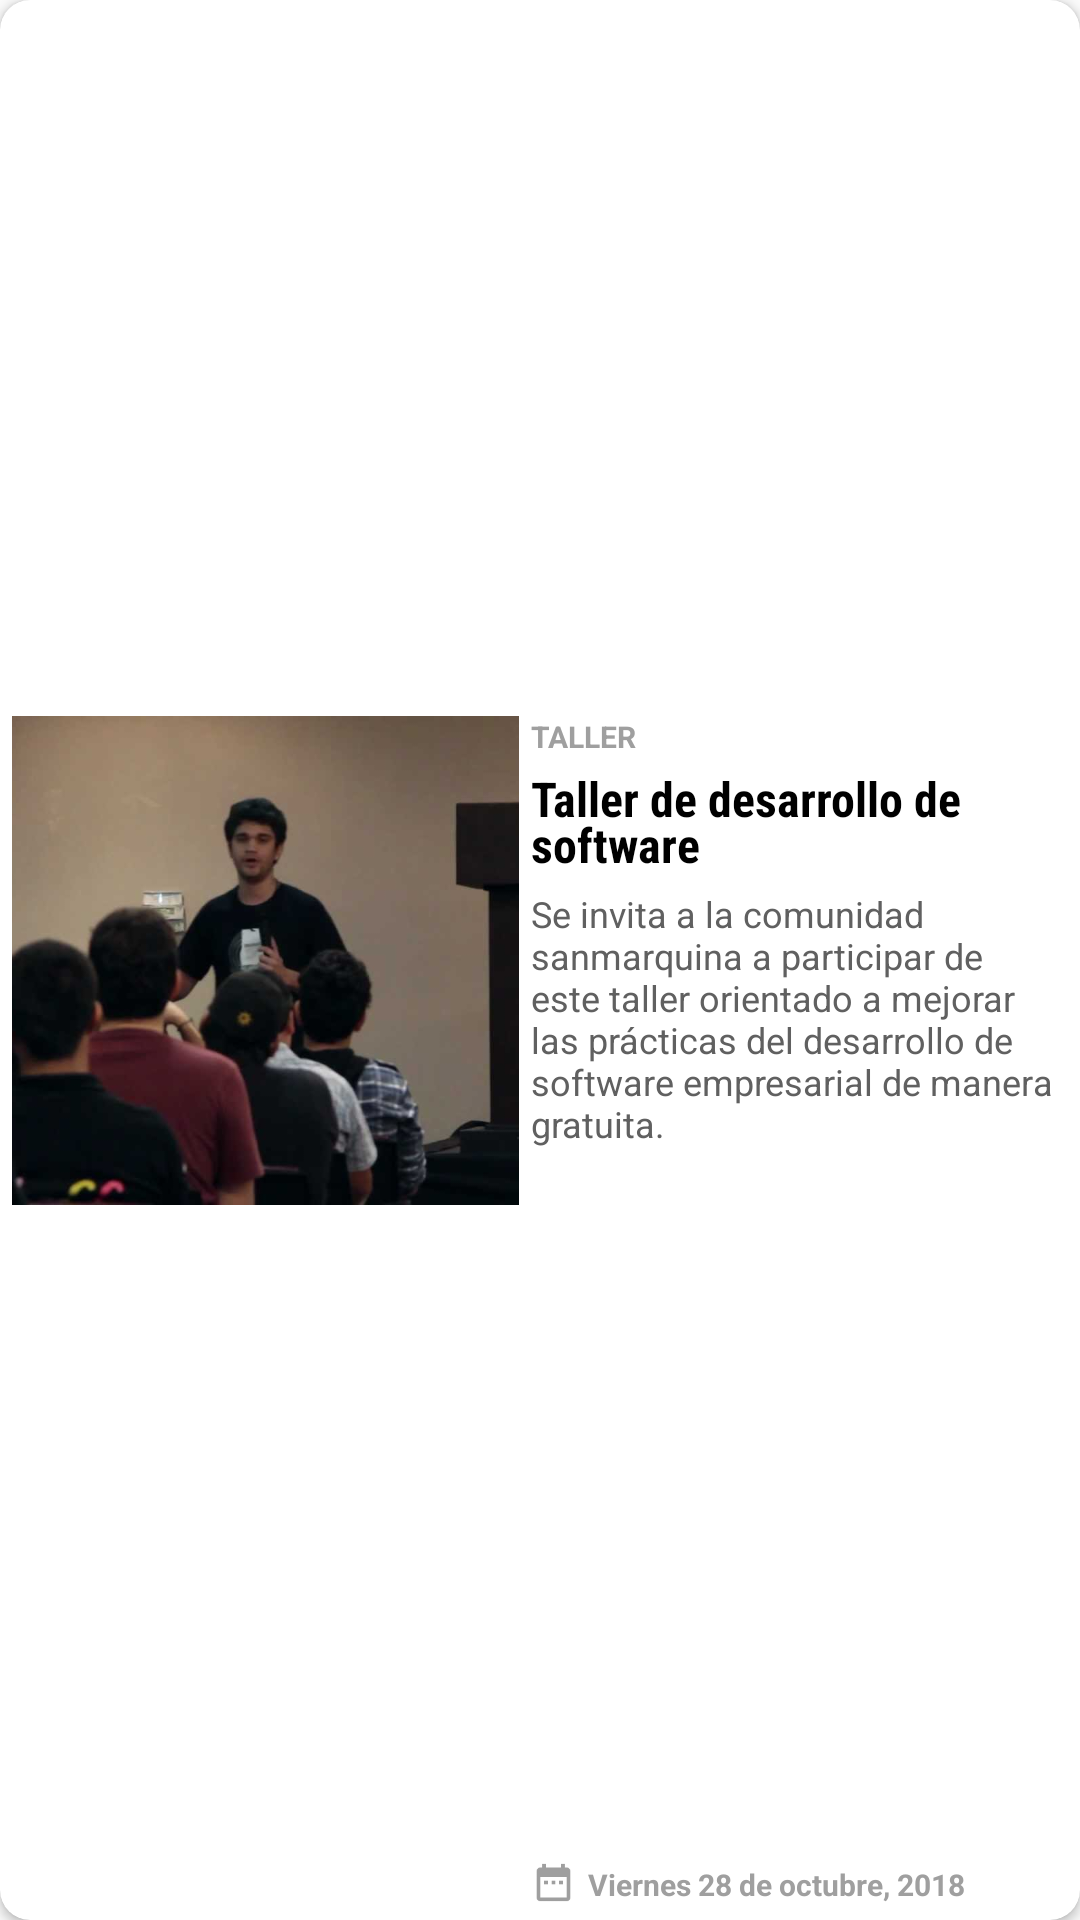

Named icons in this screenshot (1080 x 1920) and their bounding boxes, (x1, y1, x2, y2):
fecha: (536, 1864, 571, 1901)
